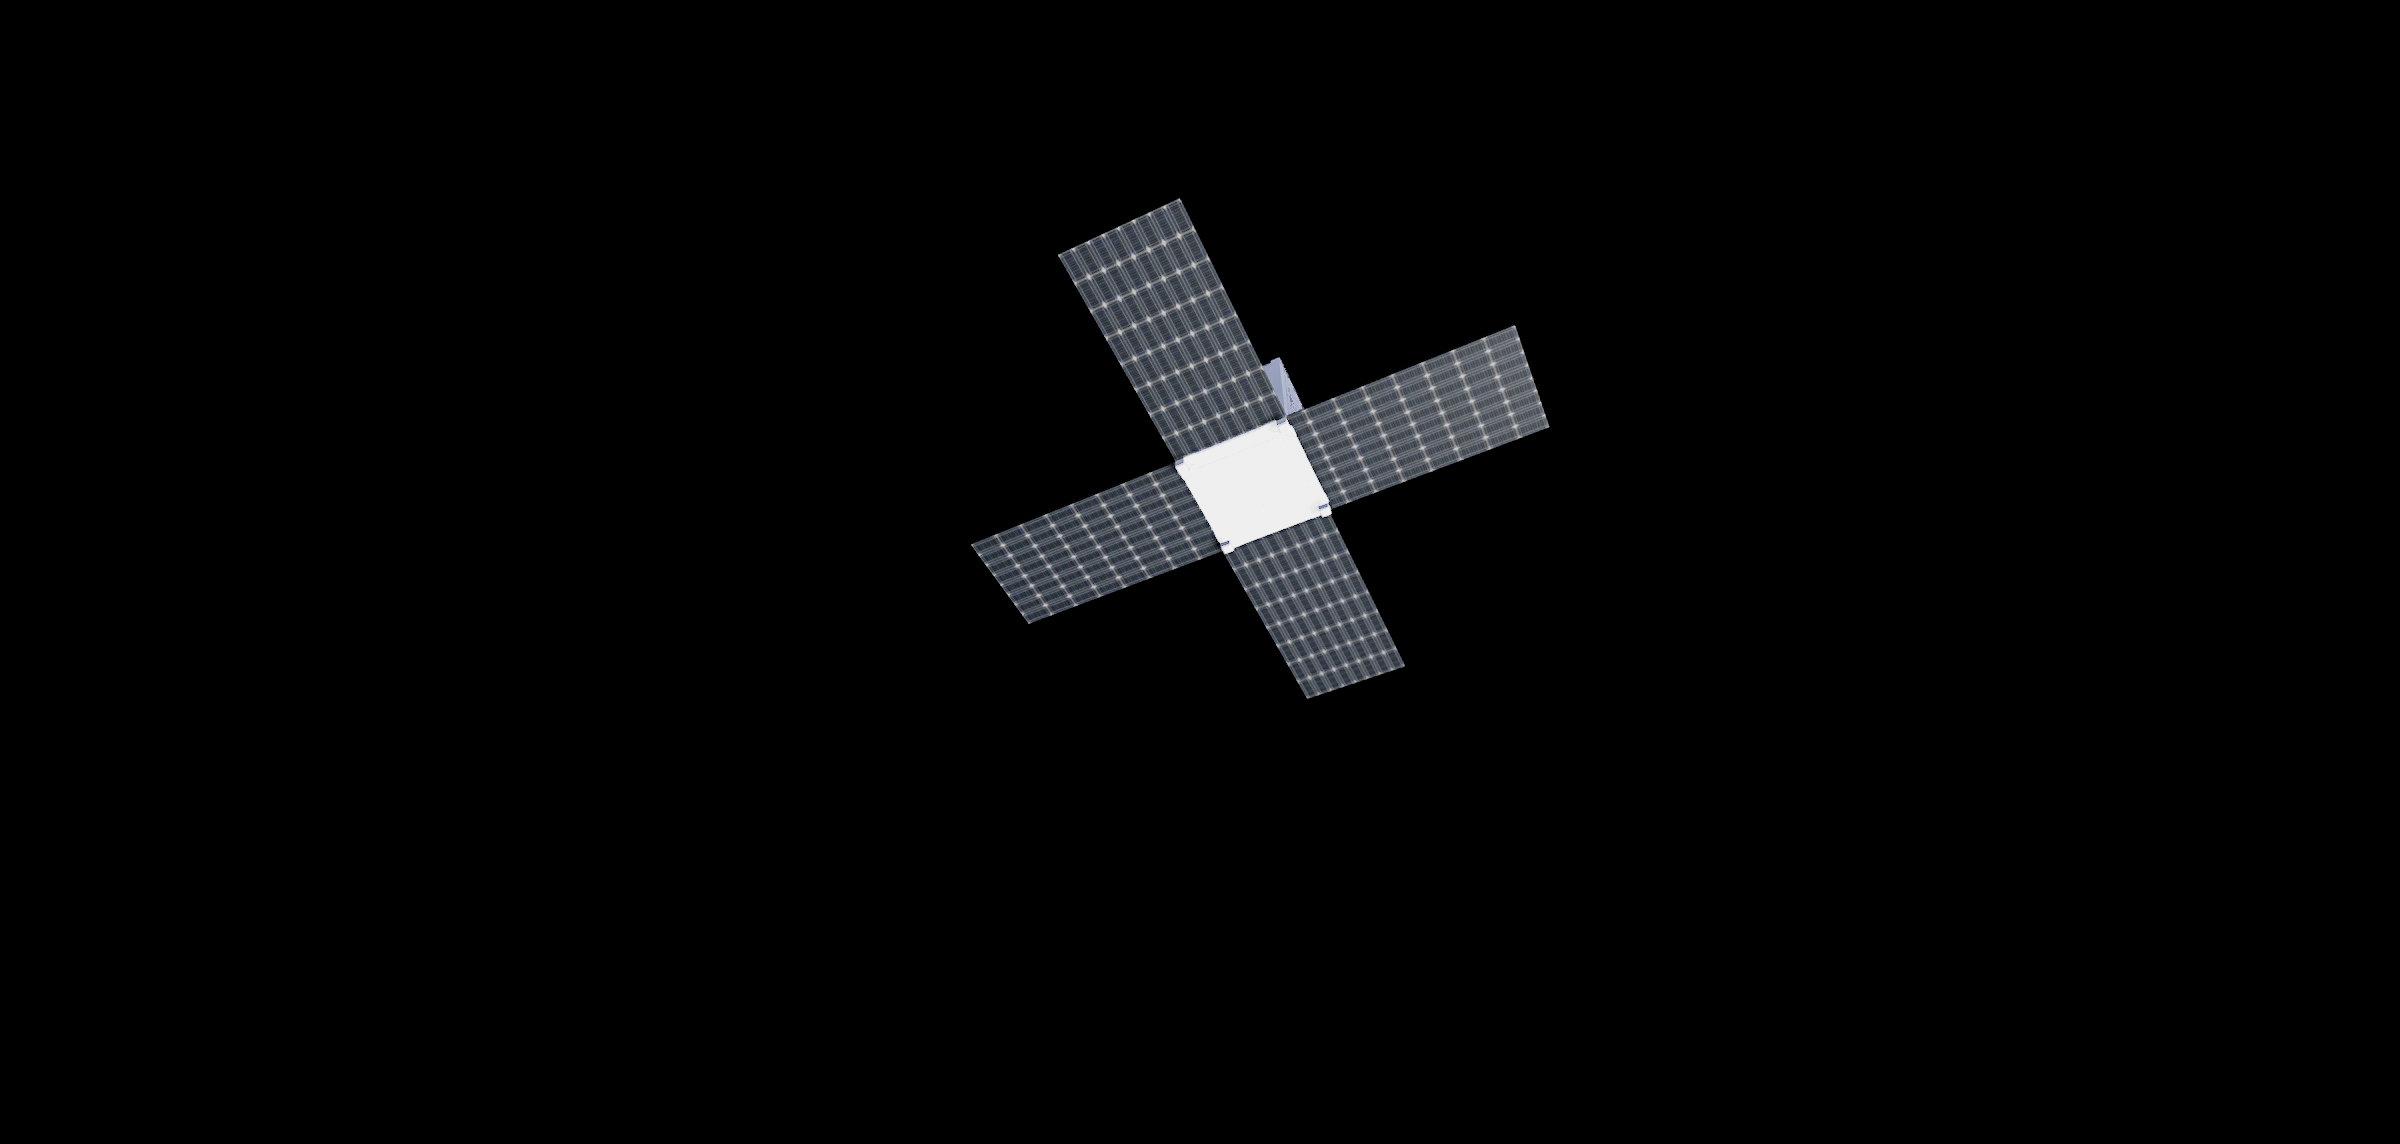satellite: (920, 191, 1580, 750)
